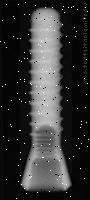Keystone Dental: (20, 6, 72, 191)
